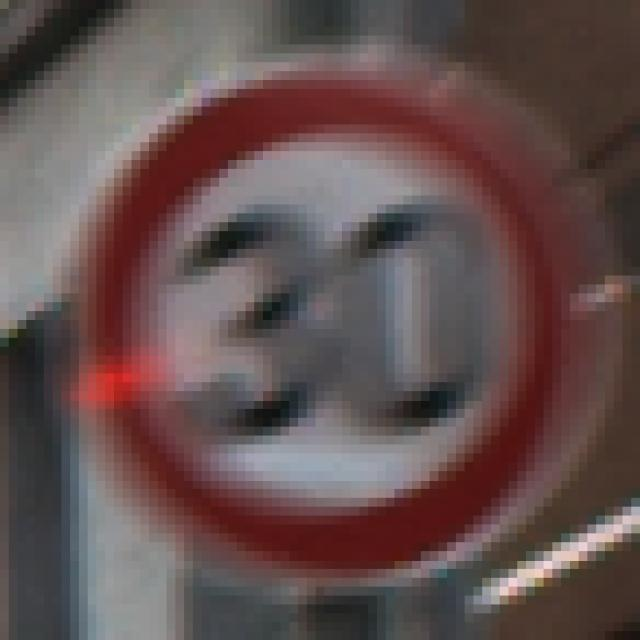Speed Limit -30-: (57, 53, 574, 569)
